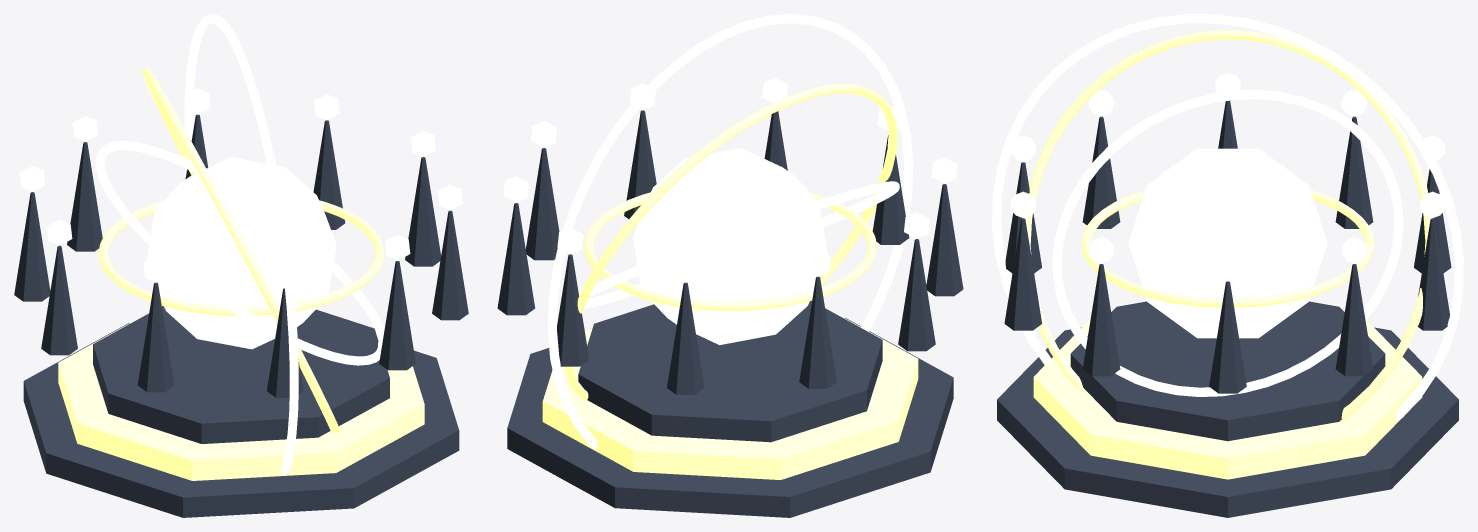
File: gpu-blender-v35.glb
The picture shows the model from 3 angles, left to right: view 1: azimuth 30°, elevation 25°; view 2: azimuth 150°, elevation 25°; view 3: azimuth 270°, elevation 25°; orthographic projection. The views are drawn at different scales.
Visible parts, largest first — view 1: Cylinder.002, SovereignCore_pod-smart-router, Cylinder, Cylinder.001, Torus.003, Torus.001, Torus, Torus.002, Cone.006, Cone.009, Cone.005, Cone.008 (+12 smaller); view 2: Cylinder.002, SovereignCore_pod-smart-router, Cylinder, Cylinder.001, Torus.003, Torus.002, Torus, Torus.001, Cone.005, Cone.001, Cone.006, Cone.003 (+12 smaller); view 3: SovereignCore_pod-smart-router, Cylinder.002, Cylinder, Cylinder.001, Torus.003, Torus.001, Torus.002, Torus, Cone.001, Cone.009, Cone, Cone.008 (+7 smaller).
Part boxes in pixels (bbox=[...]): Cylinder.002: bbox=[93, 306, 389, 443]; SovereignCore_pod-smart-router: bbox=[146, 157, 336, 349]; Cylinder: bbox=[23, 323, 459, 517]; Cylinder.001: bbox=[58, 314, 424, 480]; Torus.003: bbox=[184, 14, 298, 473]; Torus.001: bbox=[95, 141, 384, 365]; Torus: bbox=[98, 200, 384, 316]; Torus.002: bbox=[142, 68, 339, 432]; Cone.006: bbox=[137, 282, 174, 392]; Cone.009: bbox=[432, 210, 468, 320]; Cone.005: bbox=[41, 245, 77, 355]; Cone.008: bbox=[379, 261, 415, 370]; Cylinder.002: bbox=[578, 300, 882, 442]; SovereignCore_pod-smart-router: bbox=[633, 148, 827, 345]; Cylinder: bbox=[507, 318, 953, 517]; Cylinder.001: bbox=[542, 308, 918, 479]; Torus.003: bbox=[547, 14, 913, 449]; Torus.002: bbox=[564, 83, 897, 400]; Torus: bbox=[584, 192, 876, 311]; Torus.001: bbox=[578, 181, 899, 309]; Cone.005: bbox=[898, 239, 935, 351]; Cone.001: bbox=[497, 203, 535, 315]; Cone.006: bbox=[926, 184, 963, 296]; Cone.003: bbox=[667, 282, 704, 394]; SovereignCore_pod-smart-router: bbox=[1128, 148, 1327, 338]; Cylinder.002: bbox=[1070, 301, 1385, 441]; Cylinder: bbox=[997, 327, 1458, 517]; Cylinder.001: bbox=[1033, 319, 1422, 479]; Torus.003: bbox=[992, 14, 1463, 421]; Torus.001: bbox=[1052, 89, 1403, 396]; Torus.002: bbox=[1024, 30, 1431, 420]; Torus: bbox=[1081, 190, 1374, 307]; Cone.001: bbox=[1335, 264, 1373, 376]; Cone.009: bbox=[1082, 264, 1120, 376]; Cone: bbox=[1209, 281, 1246, 393]; Cone.008: bbox=[1004, 218, 1042, 330].
Size of the model in its own units: 4.41 by 4.7 by 4.49.
